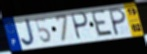5: (34, 17, 53, 44)
7: (55, 13, 71, 44)
E: (90, 9, 115, 38)
J: (20, 17, 37, 48)
P: (71, 11, 90, 41), (109, 6, 127, 37)
